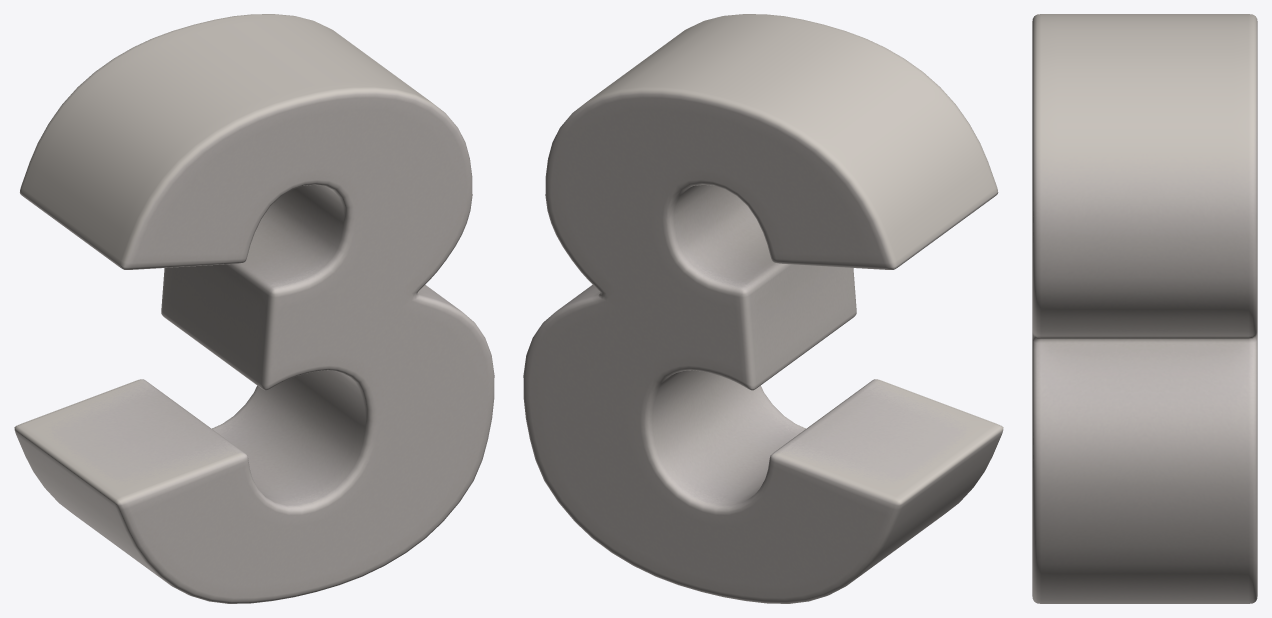
File: Three.glb
3 views of the same model, side by side, from view 1: azimuth 30°, elevation 25°; view 2: azimuth 150°, elevation 25°; view 3: azimuth 270°, elevation 25° (orthographic). The views are drawn at different scales.
Parts seen in each view (by area): view 1: node_id69; view 2: node_id69; view 3: node_id69.
Boxes of the visible parts, <box> form: node_id69: <box>14,14,494,603</box>; node_id69: <box>523,14,1003,603</box>; node_id69: <box>1032,14,1257,603</box>.
Size of the model in its own units: 0.4068 by 0.512 by 0.199.
Materials: 1 (1 with a texture image).
